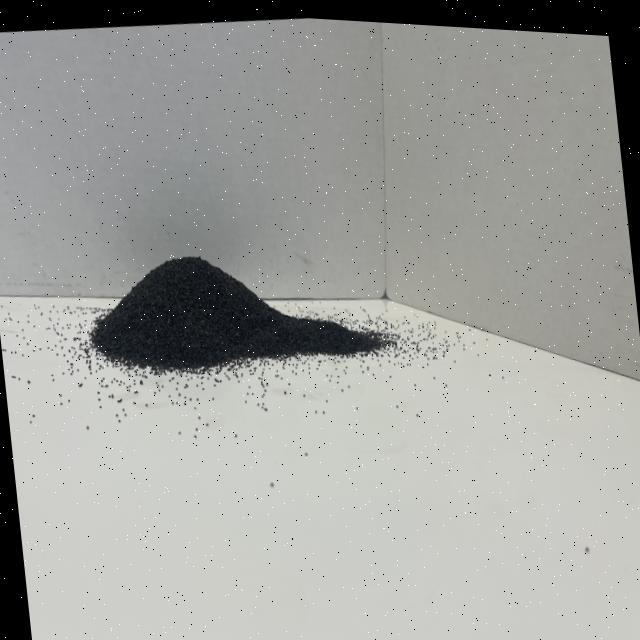Poppy Seeds: (83, 229, 374, 412)
